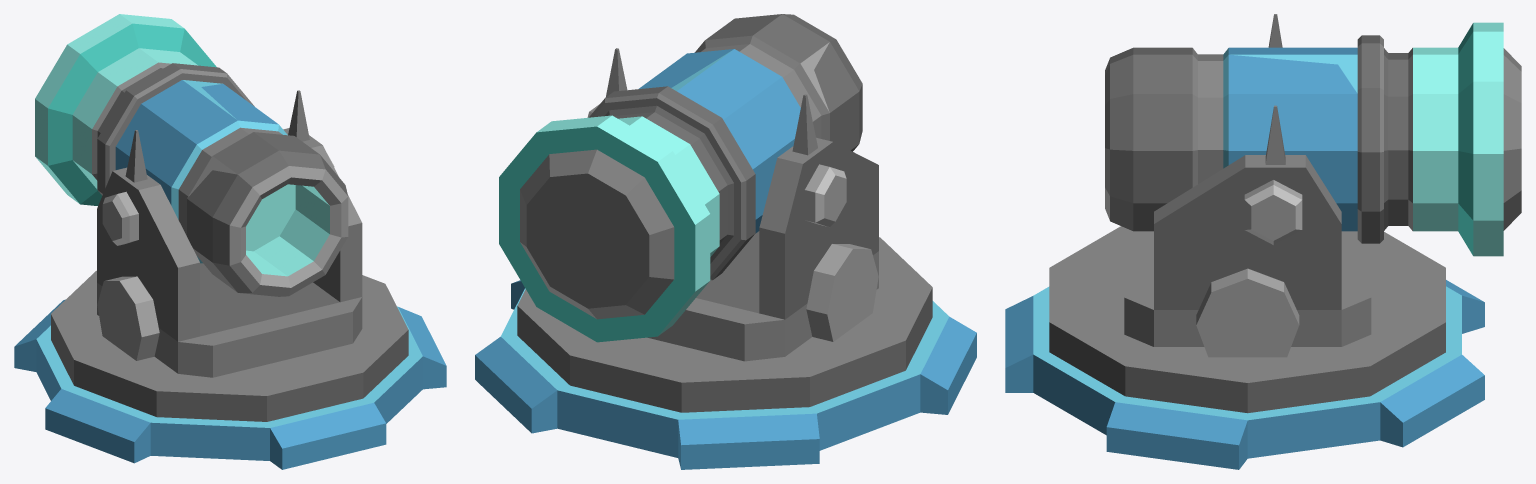
The model's file is tower_plasma_blue_2.fbx.
The picture shows the model from 3 angles, left to right: view 1: azimuth 30°, elevation 25°; view 2: azimuth 150°, elevation 25°; view 3: azimuth 270°, elevation 25°; orthographic projection. The views are drawn at different scales.
Visible parts, largest first — view 1: top_plasma_blue_2, tower_plasma_blue_2; view 2: top_plasma_blue_2, tower_plasma_blue_2; view 3: top_plasma_blue_2, tower_plasma_blue_2.
Part boxes in pixels (box(x1,y1,x2,y2)): top_plasma_blue_2: box(35, 14, 362, 377); tower_plasma_blue_2: box(14, 270, 446, 469); top_plasma_blue_2: box(499, 14, 878, 361); tower_plasma_blue_2: box(475, 237, 976, 469); top_plasma_blue_2: box(1105, 14, 1521, 357); tower_plasma_blue_2: box(1005, 226, 1484, 469).
Bounding box in the file's own units: 159 × 115 × 162.
